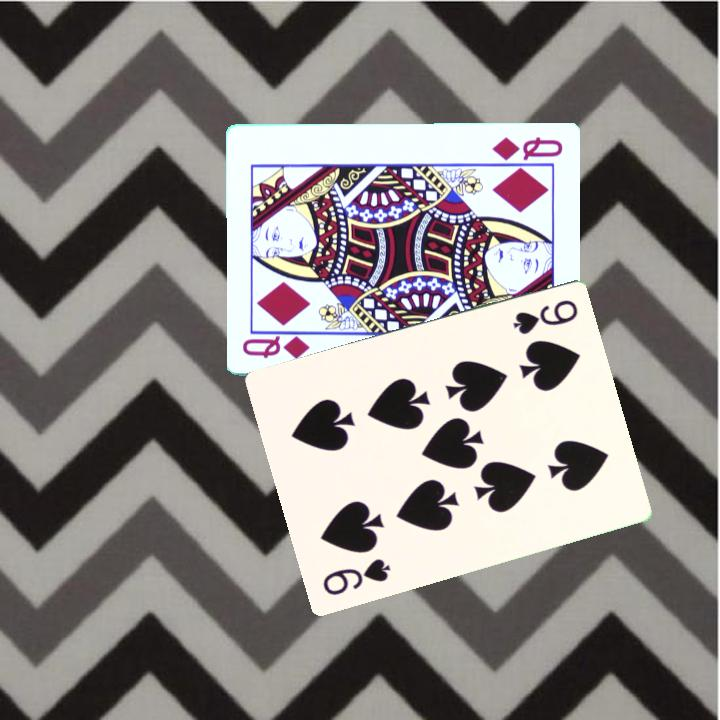9s: (319, 555, 393, 599), (509, 296, 580, 338)
Qd: (487, 133, 566, 166), (239, 333, 313, 361)
